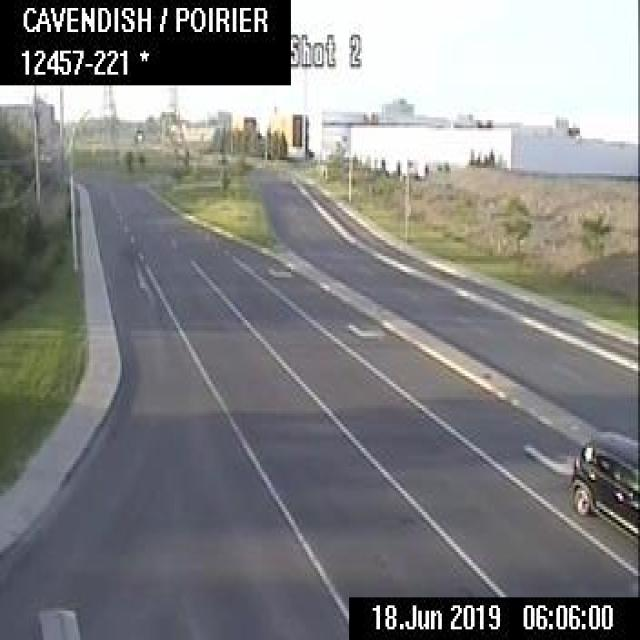vehicle: (572, 434, 638, 539)
